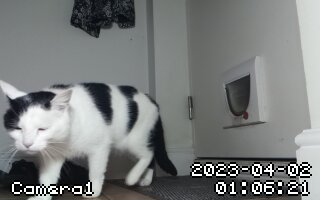bad: (1, 78, 185, 196)
